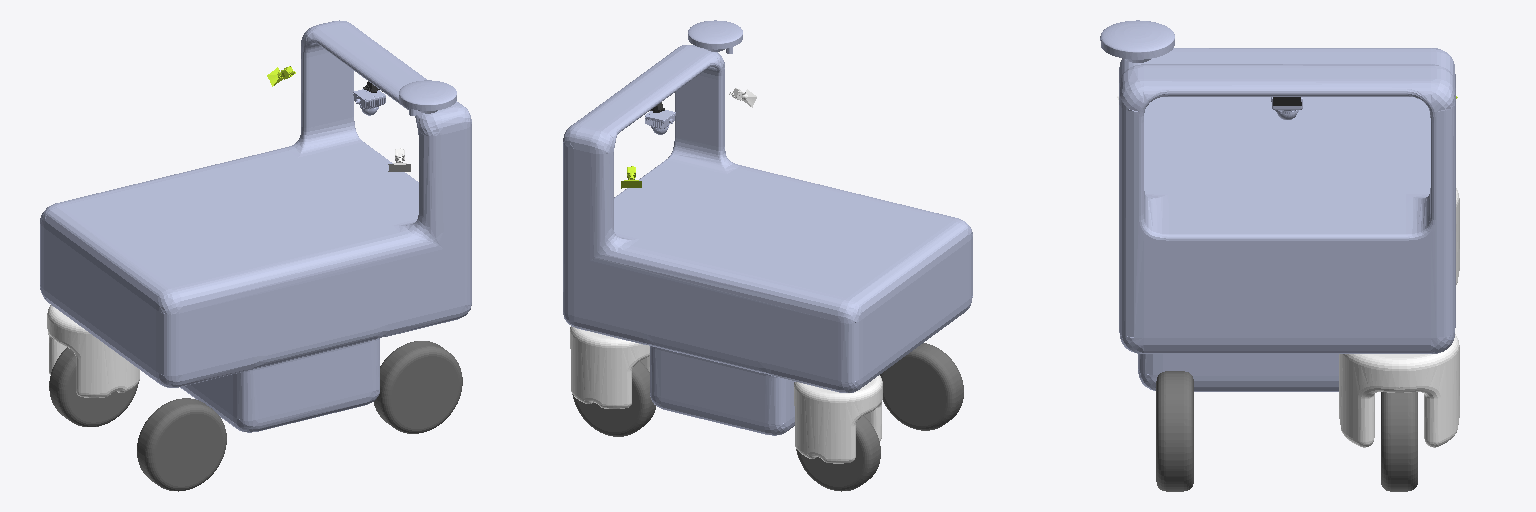
robot.urdf — karr_description_ros1:
<?xml version="1.0" encoding="utf-8"?>
<!-- This URDF was automatically created by SolidWorks to URDF Exporter! Originally created by Stephen Brawner (brawner@gmail.com) 
     Commit Version: 1.6.0-4-g7f85cfe  Build Version: 1.6.7995.38578
     For more information, please see http://wiki.ros.org/sw_urdf_exporter -->
<robot
  name="karr_description_ros1">
  <link
    name="base_link">
    <inertial>
      <origin
        xyz="0.011368 2.2931E-06 0.43149"
        rpy="0 0 0" />
      <mass
        value="100" />
      <inertia
        ixx="13.7"
        ixy="-0.00020798"
        ixz="-1.0087"
        iyy="19.462"
        iyz="-0.00014075"
        izz="23.711" />
    </inertial>
    <visual>
      <origin
        xyz="0 0 0"
        rpy="0 0 0" />
      <geometry>
        <mesh
          filename="package://karr_description_ros1/meshes/base_link.STL" />
      </geometry>
      <material
        name="">
        <color
          rgba="0.79216 0.81961 0.93333 1" />
      </material>
    </visual>
    <collision>
      <origin
        xyz="0 0 0"
        rpy="0 0 0" />
      <geometry>
        <mesh
          filename="package://karr_description_ros1/meshes/base_link.STL" />
      </geometry>
    </collision>
  </link>
  <link
    name="fl_steering_link">
    <inertial>
      <origin
        xyz="1.4884E-07 2.3073E-07 -0.084288"
        rpy="0 0 0" />
      <mass
        value="6.3588" />
      <inertia
        ixx="0.055007"
        ixy="-8.2358E-07"
        ixz="2.3514E-08"
        iyy="0.041611"
        iyz="5.8868E-08"
        izz="0.052192" />
    </inertial>
    <visual>
      <origin
        xyz="0 0 0"
        rpy="0 0 0" />
      <geometry>
        <mesh
          filename="package://karr_description_ros1/meshes/fl_steering_link.STL" />
      </geometry>
      <material
        name="">
        <color
          rgba="1 1 1 1" />
      </material>
    </visual>
    <collision>
      <origin
        xyz="0 0 0"
        rpy="0 0 0" />
      <geometry>
        <mesh
          filename="package://karr_description_ros1/meshes/fl_steering_link.STL" />
      </geometry>
    </collision>
  </link>
  <joint
    name="fl_steering"
    type="revolute">
    <origin
      xyz="0.3556 0.2286 0.3345"
      rpy="0 0 0" />
    <parent
      link="base_link" />
    <child
      link="fl_steering_link" />
    <axis
      xyz="0 0 -1" />
    <limit
      lower="-1.5708"
      upper="1.5708"
      effort="6"
      velocity="1.5" />
    <dynamics
      damping="0.1"
      friction="1" />
  </joint>
  <link
    name="fl_wheel_link">
    <inertial>
      <origin
        xyz="0 0 0"
        rpy="0 0 0" />
      <mass
        value="3.465" />
      <inertia
        ixx="0.01418"
        ixy="-1.2157E-19"
        ixz="-9.2436E-20"
        iyy="0.01418"
        iyz="-1.2825E-19"
        izz="0.025175" />
    </inertial>
    <visual>
      <origin
        xyz="0 0 0"
        rpy="0 0 0" />
      <geometry>
        <mesh
          filename="package://karr_description_ros1/meshes/fl_wheel_link.STL" />
      </geometry>
      <material
        name="">
        <color
          rgba="0.50196 0.50196 0.50196 1" />
      </material>
    </visual>
    <collision>
      <origin
        xyz="0 0 0"
        rpy="0 0 0" />
      <geometry>
        <mesh
          filename="package://karr_description_ros1/meshes/fl_wheel_link.STL" />
      </geometry>
    </collision>
  </link>
  <joint
    name="fl_wheel"
    type="continuous">
    <origin
      xyz="0 0 -0.212"
      rpy="1.5707963267949 0 3.14159265358979" />
    <parent
      link="fl_steering_link" />
    <child
      link="fl_wheel_link" />
    <axis
      xyz="0 0 1" />
    <limit
      effort="14"
      velocity="35" />
    <dynamics
      damping="0.1"
      friction="1" />
  </joint>
  <link
    name="fr_steering_link">
    <inertial>
      <origin
        xyz="-1.4884E-07 -2.3073E-07 -0.084288"
        rpy="0 0 0" />
      <mass
        value="6.3588" />
      <inertia
        ixx="0.055007"
        ixy="-8.2358E-07"
        ixz="-2.3514E-08"
        iyy="0.041611"
        iyz="-5.8868E-08"
        izz="0.052192" />
    </inertial>
    <visual>
      <origin
        xyz="0 0 0"
        rpy="0 0 0" />
      <geometry>
        <mesh
          filename="package://karr_description_ros1/meshes/fr_steering_link.STL" />
      </geometry>
      <material
        name="">
        <color
          rgba="1 1 1 1" />
      </material>
    </visual>
    <collision>
      <origin
        xyz="0 0 0"
        rpy="0 0 0" />
      <geometry>
        <mesh
          filename="package://karr_description_ros1/meshes/fr_steering_link.STL" />
      </geometry>
    </collision>
  </link>
  <joint
    name="fr_steering"
    type="revolute">
    <origin
      xyz="0.3556 -0.2286 0.3345"
      rpy="0 0 0" />
    <parent
      link="base_link" />
    <child
      link="fr_steering_link" />
    <axis
      xyz="0 0 -1" />
    <limit
      lower="-1.5708"
      upper="1.5708"
      effort="6"
      velocity="1.5" />
    <dynamics
      damping="0.1"
      friction="1" />
  </joint>
  <link
    name="fr_wheel_link">
    <inertial>
      <origin
        xyz="0 0 0"
        rpy="0 0 0" />
      <mass
        value="3.465" />
      <inertia
        ixx="0.01418"
        ixy="-1.5357E-32"
        ixz="-1.1641E-17"
        iyy="0.01418"
        iyz="6.688E-19"
        izz="0.025175" />
    </inertial>
    <visual>
      <origin
        xyz="0 0 0"
        rpy="0 0 0" />
      <geometry>
        <mesh
          filename="package://karr_description_ros1/meshes/fr_wheel_link.STL" />
      </geometry>
      <material
        name="">
        <color
          rgba="0.50196 0.50196 0.50196 1" />
      </material>
    </visual>
    <collision>
      <origin
        xyz="0 0 0"
        rpy="0 0 0" />
      <geometry>
        <mesh
          filename="package://karr_description_ros1/meshes/fr_wheel_link.STL" />
      </geometry>
    </collision>
  </link>
  <joint
    name="fr_wheel"
    type="continuous">
    <origin
      xyz="0 0 -0.212"
      rpy="-1.5707963267949 0 0" />
    <parent
      link="fr_steering_link" />
    <child
      link="fr_wheel_link" />
    <axis
      xyz="0 0 1" />
    <limit
      effort="14"
      velocity="35" />
    <dynamics
      damping="0.1"
      friction="1" />
  </joint>
  <link
    name="bl_steering_link">
    <inertial>
      <origin
        xyz="-1.48841857172677E-07 -2.30726016708926E-07 -0.0842876754537782"
        rpy="0 0 0" />
      <mass
        value="6.35875961788887" />
      <inertia
        ixx="0.0550065404106483"
        ixy="-8.23584101782654E-07"
        ixz="-2.3513572635351E-08"
        iyy="0.041611268323679"
        iyz="-5.88677948809197E-08"
        izz="0.0521917225589976" />
    </inertial>
    <visual>
      <origin
        xyz="0 0 0"
        rpy="0 0 0" />
      <geometry>
        <mesh
          filename="package://karr_description_ros1/meshes/bl_steering_link.STL" />
      </geometry>
      <material
        name="">
        <color
          rgba="1 1 1 1" />
      </material>
    </visual>
    <collision>
      <origin
        xyz="0 0 0"
        rpy="0 0 0" />
      <geometry>
        <mesh
          filename="package://karr_description_ros1/meshes/bl_steering_link.STL" />
      </geometry>
    </collision>
  </link>
  <joint
    name="bl_steering"
    type="revolute">
    <origin
      xyz="-0.3556 0.2286 0.3345"
      rpy="0 0 0" />
    <parent
      link="base_link" />
    <child
      link="bl_steering_link" />
    <axis
      xyz="0 0 -1" />
    <limit
      lower="-1.5708"
      upper="1.5708"
      effort="6"
      velocity="1.5" />
    <dynamics
      damping="0.1"
      friction="1" />
  </joint>
  <link
    name="bl_wheel_link">
    <inertial>
      <origin
        xyz="0 0 0"
        rpy="0 0 0" />
      <mass
        value="3.465" />
      <inertia
        ixx="0.01418"
        ixy="-6.6136E-20"
        ixz="2.8614E-19"
        iyy="0.01418"
        iyz="1.5784E-19"
        izz="0.025175" />
    </inertial>
    <visual>
      <origin
        xyz="0 0 0"
        rpy="0 0 0" />
      <geometry>
        <mesh
          filename="package://karr_description_ros1/meshes/bl_wheel_link.STL" />
      </geometry>
      <material
        name="">
        <color
          rgba="0.50196 0.50196 0.50196 1" />
      </material>
    </visual>
    <collision>
      <origin
        xyz="0 0 0"
        rpy="0 0 0" />
      <geometry>
        <mesh
          filename="package://karr_description_ros1/meshes/bl_wheel_link.STL" />
      </geometry>
    </collision>
  </link>
  <joint
    name="bl_wheel"
    type="continuous">
    <origin
      xyz="0 0 -0.212"
      rpy="-1.5707963267949 0 0" />
    <parent
      link="bl_steering_link" />
    <child
      link="bl_wheel_link" />
    <axis
      xyz="0 0 1" />
    <limit
      effort="14"
      velocity="35" />
    <dynamics
      damping="0.1"
      friction="1" />
  </joint>
  <link
    name="br_steering_link">
    <inertial>
      <origin
        xyz="-1.4884E-07 -2.3073E-07 -0.084288"
        rpy="0 0 0" />
      <mass
        value="6.3588" />
      <inertia
        ixx="0.055007"
        ixy="-8.2358E-07"
        ixz="-2.3514E-08"
        iyy="0.041611"
        iyz="-5.8868E-08"
        izz="0.052192" />
    </inertial>
    <visual>
      <origin
        xyz="0 0 0"
        rpy="0 0 0" />
      <geometry>
        <mesh
          filename="package://karr_description_ros1/meshes/br_steering_link.STL" />
      </geometry>
      <material
        name="">
        <color
          rgba="1 1 1 1" />
      </material>
    </visual>
    <collision>
      <origin
        xyz="0 0 0"
        rpy="0 0 0" />
      <geometry>
        <mesh
          filename="package://karr_description_ros1/meshes/br_steering_link.STL" />
      </geometry>
    </collision>
  </link>
  <joint
    name="br_steering"
    type="revolute">
    <origin
      xyz="-0.3556 -0.2286 0.3345"
      rpy="0 0 0" />
    <parent
      link="base_link" />
    <child
      link="br_steering_link" />
    <axis
      xyz="0 0 -1" />
    <limit
      lower="-1.5708"
      upper="1.5708"
      effort="6"
      velocity="1.5" />
    <dynamics
      damping="0.1"
      friction="1" />
  </joint>
  <link
    name="br_wheel_link">
    <inertial>
      <origin
        xyz="0 0 2.7756E-17"
        rpy="0 0 0" />
      <mass
        value="3.465" />
      <inertia
        ixx="0.01418"
        ixy="-8.267E-21"
        ixz="3.0406E-19"
        iyy="0.01418"
        iyz="-2.0986E-20"
        izz="0.025175" />
    </inertial>
    <visual>
      <origin
        xyz="0 0 0"
        rpy="0 0 0" />
      <geometry>
        <mesh
          filename="package://karr_description_ros1/meshes/br_wheel_link.STL" />
      </geometry>
      <material
        name="">
        <color
          rgba="0.50196 0.50196 0.50196 1" />
      </material>
    </visual>
    <collision>
      <origin
        xyz="0 0 0"
        rpy="0 0 0" />
      <geometry>
        <mesh
          filename="package://karr_description_ros1/meshes/br_wheel_link.STL" />
      </geometry>
    </collision>
  </link>
  <joint
    name="br_wheel"
    type="continuous">
    <origin
      xyz="0 0 -0.212"
      rpy="-1.5707963267949 0 0" />
    <parent
      link="br_steering_link" />
    <child
      link="br_wheel_link" />
    <axis
      xyz="0 0 1" />
    <limit
      effort="14"
      velocity="35" />
    <dynamics
      damping="0.1"
      friction="1" />
  </joint>
  <link
    name="left_gps_link">
    <inertial>
      <origin
        xyz="-5.3449E-05 0.3048 -0.016676"
        rpy="0 0 0" />
      <mass
        value="1.3067" />
      <inertia
        ixx="0.0015479"
        ixy="-3.6943E-10"
        ixz="-9.9214E-06"
        iyy="0.0015879"
        iyz="-2.3167E-11"
        izz="0.0026937" />
    </inertial>
    <visual>
      <origin
        xyz="0 0 0"
        rpy="0 0 0" />
      <geometry>
        <mesh
          filename="package://karr_description_ros1/meshes/left_gps_link.STL" />
      </geometry>
      <material
        name="">
        <color
          rgba="0.79216 0.81961 0.93333 1" />
      </material>
    </visual>
    <collision>
      <origin
        xyz="0 0 0"
        rpy="0 0 0" />
      <geometry>
        <mesh
          filename="package://karr_description_ros1/meshes/left_gps_link.STL" />
      </geometry>
    </collision>
  </link>
  <joint
    name="left_gps"
    type="fixed">
    <origin
      xyz="0.3429 0.3048 1.0038"
      rpy="0 0 0" />
    <parent
      link="base_link" />
    <child
      link="left_gps_link" />
    <axis
      xyz="0 0 0" />
  </joint>
  <link
    name="right_gps_link">
    <inertial>
      <origin
        xyz="-5.3449E-05 0.3048 -0.016676"
        rpy="0 0 0" />
      <mass
        value="1.3067" />
      <inertia
        ixx="0.0015479"
        ixy="-3.6943E-10"
        ixz="-9.9214E-06"
        iyy="0.0015879"
        iyz="-2.3167E-11"
        izz="0.0026937" />
    </inertial>
    <visual>
      <origin
        xyz="0 0 0"
        rpy="0 0 0" />
      <geometry>
        <mesh
          filename="package://karr_description_ros1/meshes/right_gps_link.STL" />
      </geometry>
      <material
        name="">
        <color
          rgba="0.79216 0.81961 0.93333 1" />
      </material>
    </visual>
    <collision>
      <origin
        xyz="0 0 0"
        rpy="0 0 0" />
      <geometry>
        <mesh
          filename="package://karr_description_ros1/meshes/right_gps_link.STL" />
      </geometry>
    </collision>
  </link>
  <joint
    name="right_gps"
    type="fixed">
    <origin
      xyz="0.3429 -0.3048 1.0038"
      rpy="0 0 0" />
    <parent
      link="base_link" />
    <child
      link="right_gps_link" />
    <axis
      xyz="0 0 0" />
  </joint>
  <link
    name="livox_base_link">
    <inertial>
      <origin
        xyz="-0.0001997 -6.1721E-06 0.022032"
        rpy="0 0 0" />
      <mass
        value="0.14189" />
      <inertia
        ixx="4.1797E-05"
        ixy="-5.622E-09"
        ixz="3.0551E-07"
        iyy="4.5077E-05"
        iyz="-6.5495E-10"
        izz="6.8799E-05" />
    </inertial>
    <visual>
      <origin
        xyz="0 0 0"
        rpy="0 0 0" />
      <geometry>
        <mesh
          filename="package://karr_description_ros1/meshes/livox_base_link.STL" />
      </geometry>
      <material
        name="">
        <color
          rgba="0.79216 0.81961 0.93333 1" />
      </material>
    </visual>
    <collision>
      <origin
        xyz="0 0 0"
        rpy="0 0 0" />
      <geometry>
        <mesh
          filename="package://karr_description_ros1/meshes/livox_base_link.STL" />
      </geometry>
    </collision>
  </link>
  <joint
    name="livox_base"
    type="fixed">
    <origin
      xyz="0.3429 0 0.8797"
      rpy="3.1416 0 0" />
    <parent
      link="base_link" />
    <child
      link="livox_base_link" />
    <axis
      xyz="0 0 0" />
  </joint>
  <link
    name="left_zedxones_link">
    <inertial>
      <origin
        xyz="0.022227 9.5481E-05 0.012274"
        rpy="0 0 0" />
      <mass
        value="0.024173" />
      <inertia
        ixx="4.0446E-06"
        ixy="-3.4686E-10"
        ixz="2.5243E-09"
        iyy="1.7111E-06"
        iyz="-3.325E-09"
        izz="3.1877E-06" />
    </inertial>
    <visual>
      <origin
        xyz="0 0 0"
        rpy="0 0 0" />
      <geometry>
        <mesh
          filename="package://karr_description_ros1/meshes/left_zedxones_link.STL" />
      </geometry>
      <material
        name="">
        <color
          rgba="0.85098 1 0.25882 1" />
      </material>
    </visual>
    <collision>
      <origin
        xyz="0 0 0"
        rpy="0 0 0" />
      <geometry>
        <mesh
          filename="package://karr_description_ros1/meshes/left_zedxones_link.STL" />
      </geometry>
    </collision>
  </link>
  <joint
    name="left_zedxones"
    type="fixed">
    <origin
      xyz="0.26708 0.28843 0.82828"
      rpy="0 0.5236 2.0944" />
    <parent
      link="base_link" />
    <child
      link="left_zedxones_link" />
    <axis
      xyz="0 0 0" />
  </joint>
  <link
    name="center_zedxones_link">
    <inertial>
      <origin
        xyz="0.022227 9.5494E-05 0.012274"
        rpy="0 0 0" />
      <mass
        value="0.024173" />
      <inertia
        ixx="4.0446E-06"
        ixy="-3.4801E-10"
        ixz="2.5232E-09"
        iyy="1.7111E-06"
        iyz="-3.3249E-09"
        izz="3.1877E-06" />
    </inertial>
    <visual>
      <origin
        xyz="0 0 0"
        rpy="0 0 0" />
      <geometry>
        <mesh
          filename="package://karr_description_ros1/meshes/center_zedxones_link.STL" />
      </geometry>
      <material
        name="">
        <color
          rgba="0.30196 0.30196 0.30196 1" />
      </material>
    </visual>
    <collision>
      <origin
        xyz="0 0 0"
        rpy="0 0 0" />
      <geometry>
        <mesh
          filename="package://karr_description_ros1/meshes/center_zedxones_link.STL" />
      </geometry>
    </collision>
  </link>
  <joint
    name="center_zedxones"
    type="fixed">
    <origin
      xyz="0.34893 0 0.8854"
      rpy="0 0.2618 0" />
    <parent
      link="base_link" />
    <child
      link="center_zedxones_link" />
    <axis
      xyz="0 0 0" />
  </joint>
  <link
    name="right_zedxones_link">
    <inertial>
      <origin
        xyz="0 0 0"
        rpy="0 0 0" />
      <mass
        value="0" />
      <inertia
        ixx="0"
        ixy="0"
        ixz="0"
        iyy="0"
        iyz="0"
        izz="0" />
    </inertial>
    <visual>
      <origin
        xyz="0 0 0"
        rpy="0 0 0" />
      <geometry>
        <mesh
          filename="package://karr_description_ros1/meshes/right_zedxones_link.STL" />
      </geometry>
      <material
        name="">
        <color
          rgba="1 1 1 1" />
      </material>
    </visual>
    <collision>
      <origin
        xyz="0 0 0"
        rpy="0 0 0" />
      <geometry>
        <mesh
          filename="package://karr_description_ros1/meshes/right_zedxones_link.STL" />
      </geometry>
    </collision>
  </link>
  <joint
    name="right_zedxones"
    type="fixed">
    <origin
      xyz="0.267084982524774 -0.288430235963189 0.8282794192948"
      rpy="0 0.5235987755983 -2.0943951023932" />
    <parent
      link="base_link" />
    <child
      link="right_zedxones_link" />
    <axis
      xyz="0 0 0" />
  </joint>
</robot>

--- Facts derived from the render (not from the file) ---
The picture shows the robot from 3 angles, left to right: view 1: azimuth 30°, elevation 25°; view 2: azimuth 150°, elevation 25°; view 3: azimuth 270°, elevation 25°; orthographic projection.
Robot: karr_description_ros1 — 15 links, 14 joints (4 revolute, 4 continuous, 6 fixed); root link base_link; default pose: every joint at zero.
Visible links, largest first — view 1: base_link, br_wheel_link, fr_wheel_link, bl_steering_link, bl_wheel_link, right_gps_link, livox_base_link; view 2: base_link, bl_steering_link, br_wheel_link, fl_steering_link, bl_wheel_link, fl_wheel_link, right_gps_link, livox_base_link; view 3: base_link, fl_steering_link, fr_wheel_link, fl_wheel_link, right_gps_link.
Link boxes in pixels (<box>): base_link: <box>40,20,471,432</box>; br_wheel_link: <box>137,398,226,491</box>; fr_wheel_link: <box>374,341,462,433</box>; bl_steering_link: <box>47,305,139,397</box>; bl_wheel_link: <box>49,347,138,426</box>; right_gps_link: <box>399,80,456,115</box>; livox_base_link: <box>353,89,385,115</box>; base_link: <box>563,45,972,435</box>; bl_steering_link: <box>794,375,882,463</box>; br_wheel_link: <box>880,343,963,430</box>; fl_steering_link: <box>570,326,649,408</box>; bl_wheel_link: <box>796,416,880,491</box>; fl_wheel_link: <box>572,361,655,436</box>; right_gps_link: <box>688,20,742,53</box>; livox_base_link: <box>645,110,675,134</box>; base_link: <box>1119,48,1455,391</box>; fl_steering_link: <box>1339,334,1459,447</box>; fr_wheel_link: <box>1156,371,1193,491</box>; fl_wheel_link: <box>1381,392,1417,491</box>; right_gps_link: <box>1100,20,1174,62</box>.
Bounding box of the posed robot: 0.9562 × 0.7319 × 1.01 m (x, y, z).
Meshes: 15 distinct files referenced, 12 mesh visuals loaded (12 binary STL); not drawn: 3 (reference not matched to a file when rendering).
